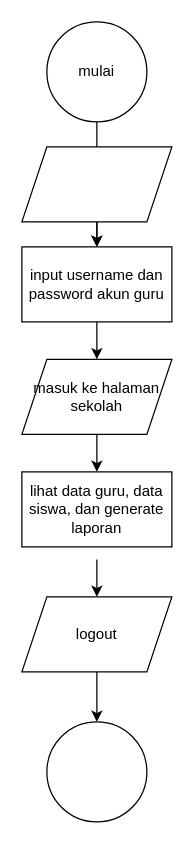
This 194x844 diagram has some shape labels left out. Here are the shapes that lost their labels. From the top down, the centre of each, then its label:
the point at 96,184: masuk ke halaman login
the point at 96,771: selesai
